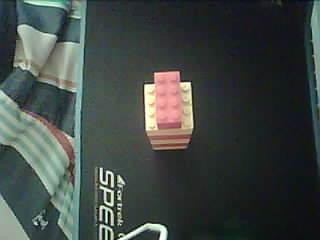lego: (144, 71, 194, 149)
